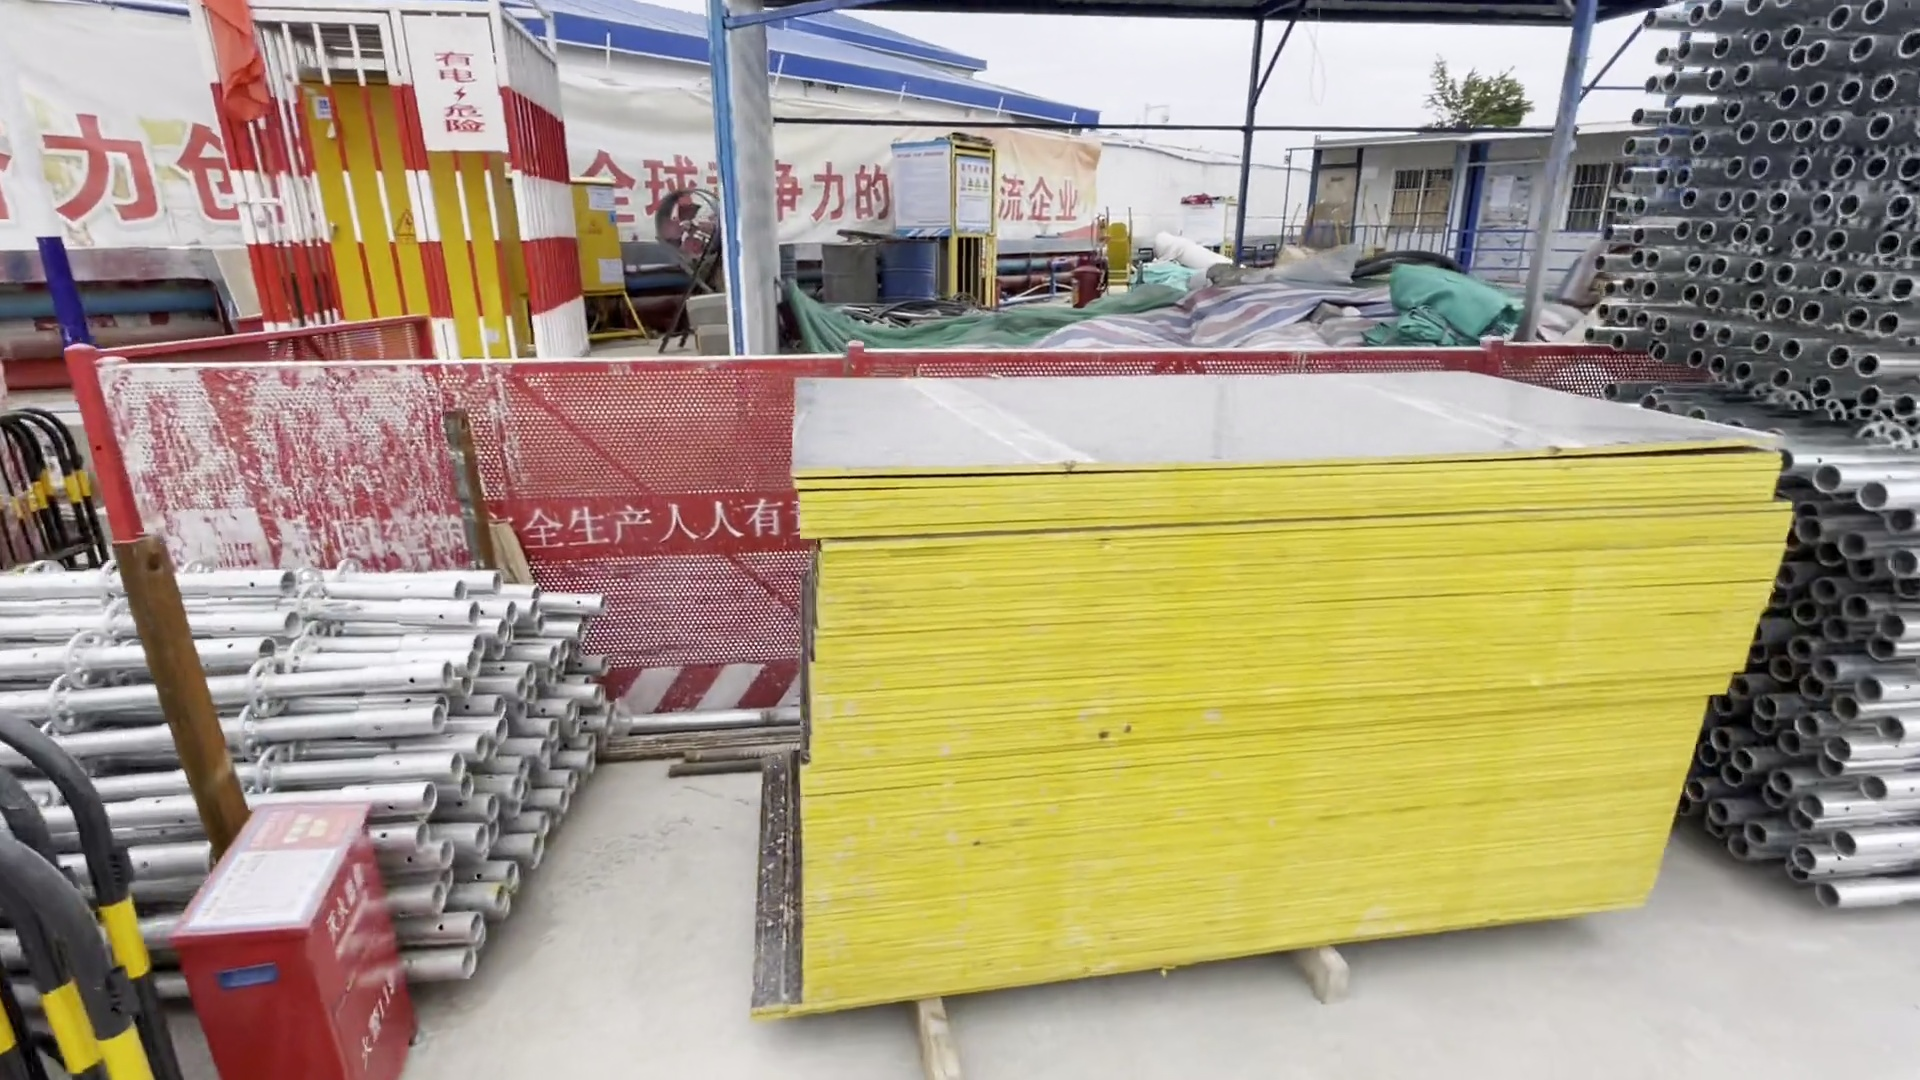board: (737, 376, 1753, 986)
ebox: (287, 80, 520, 371), (554, 173, 653, 336)
fence: (142, 353, 796, 702)
scaffold: (1, 578, 603, 928), (1634, 13, 1920, 452), (1742, 448, 1920, 899)
slogan: (568, 131, 915, 222)
